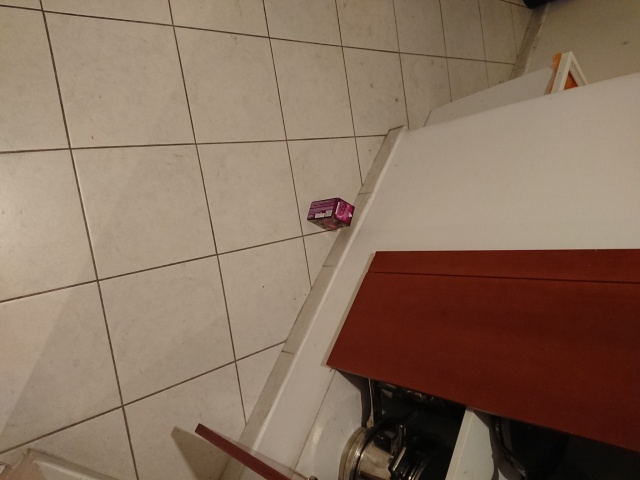Franck Black Currant Tea 60g: (305, 197, 357, 232)
